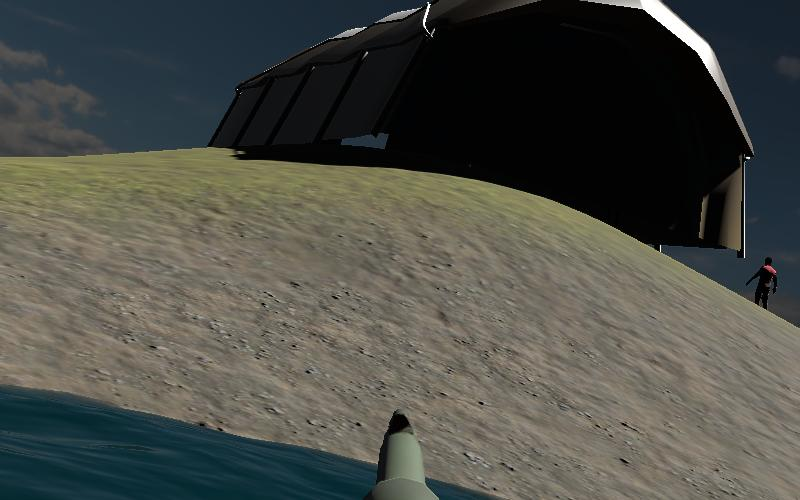Human: (744, 252, 781, 317)
